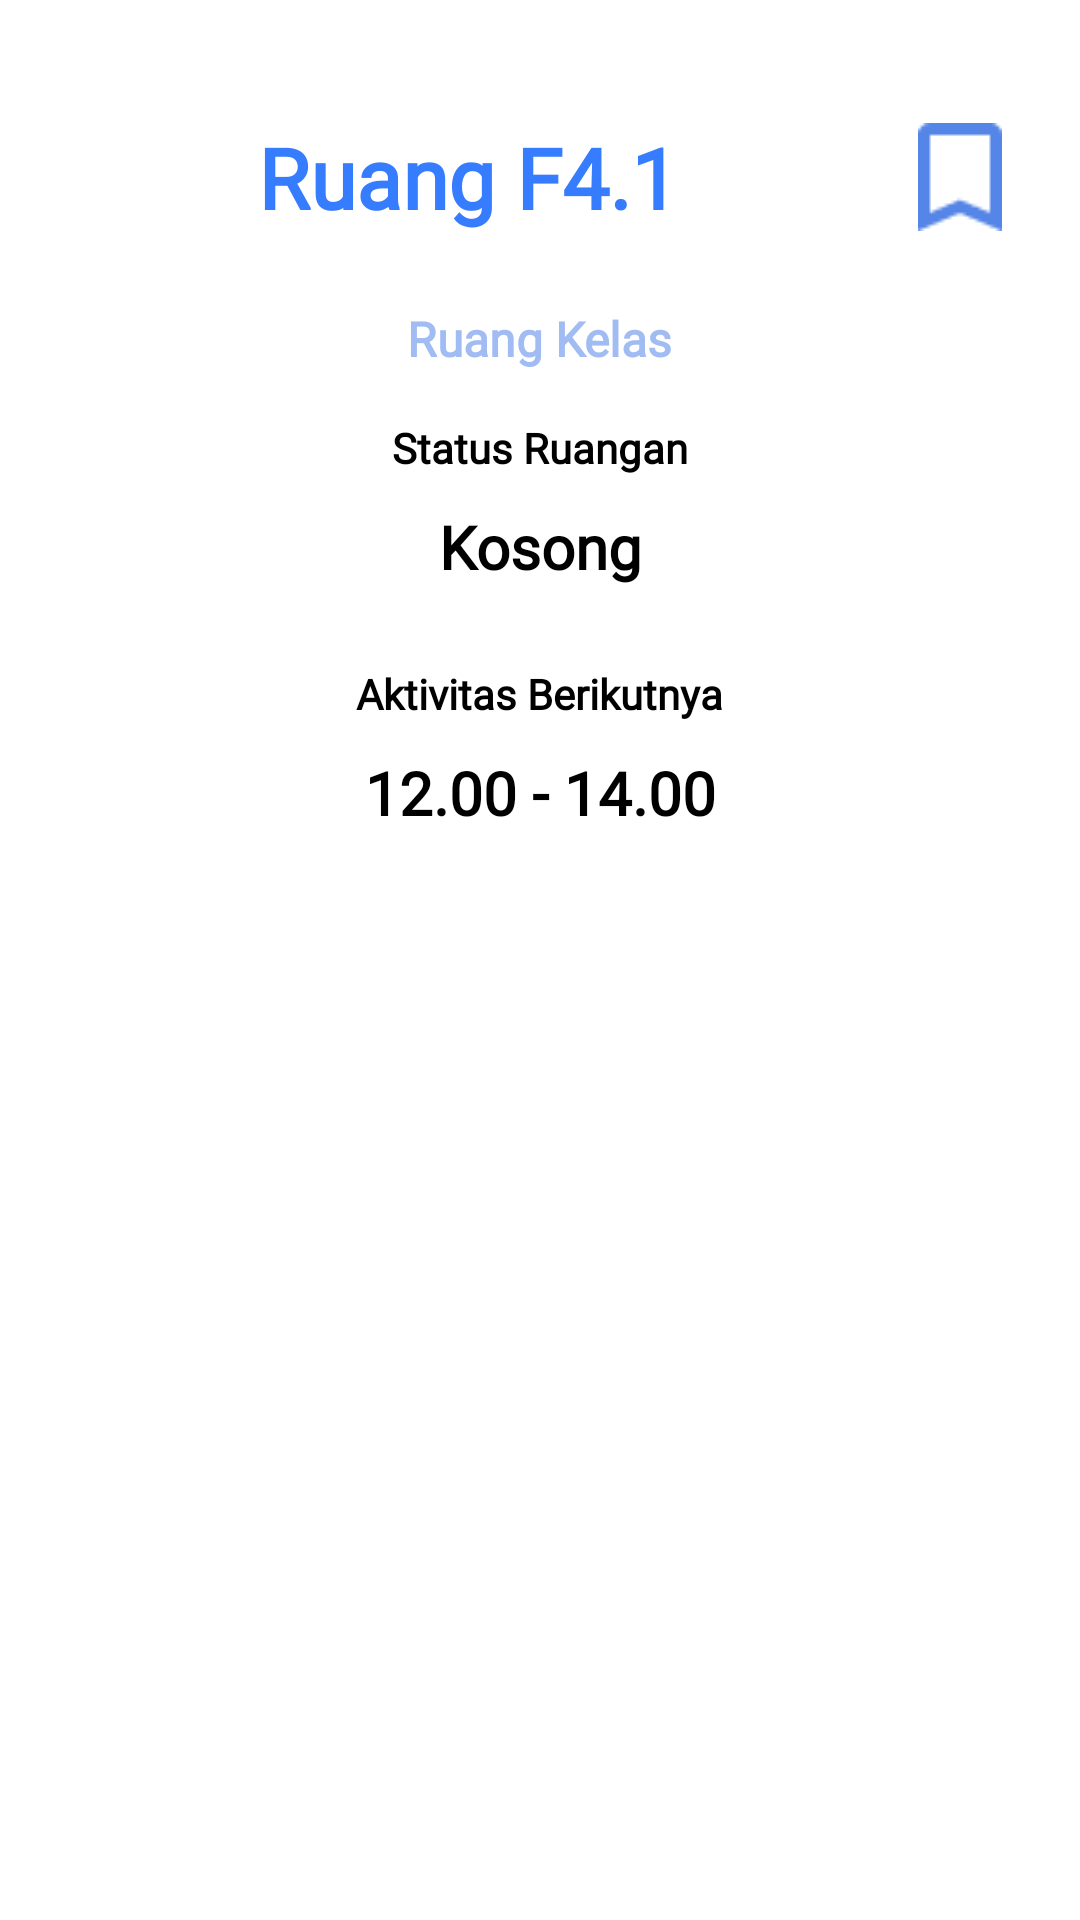

Screen size 1080 × 1920. Icon name, then its center in pixels as [x,y]:
bookmark: [960,177]
